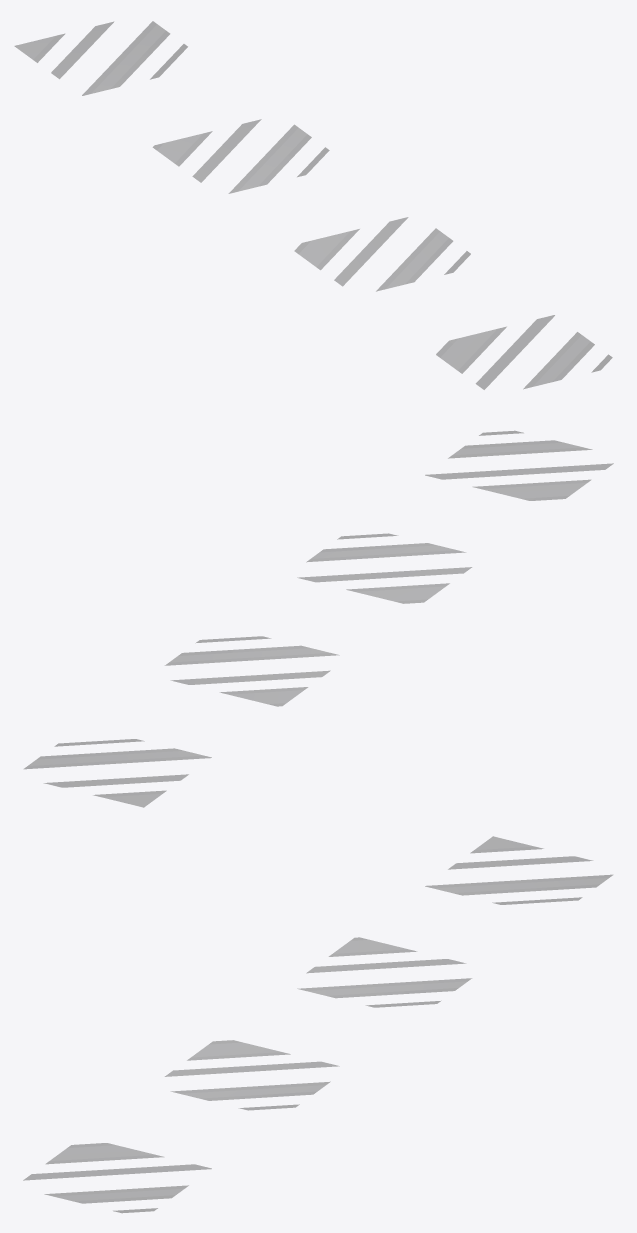
Rendered from Aztec_Alpha_86.glb.
The picture shows the model from 3 angles, top to bottom: view 1: azimuth 30°, elevation 25°; view 2: azimuth 150°, elevation 25°; view 3: azimuth 330°, elevation 25°; orthographic projection.
Parts seen in each view (by area): view 1: Aztec_Alpha_86; view 2: Aztec_Alpha_86; view 3: Aztec_Alpha_86.
Part boxes in pixels (x1,y1,x2,y2): Aztec_Alpha_86: (14,21,612,389); Aztec_Alpha_86: (24,430,613,807); Aztec_Alpha_86: (23,836,612,1213).
Size of the model in its own units: 7.12 by 1.07e-14 by 45.5.
Materials: 1 (1 with a texture image).
